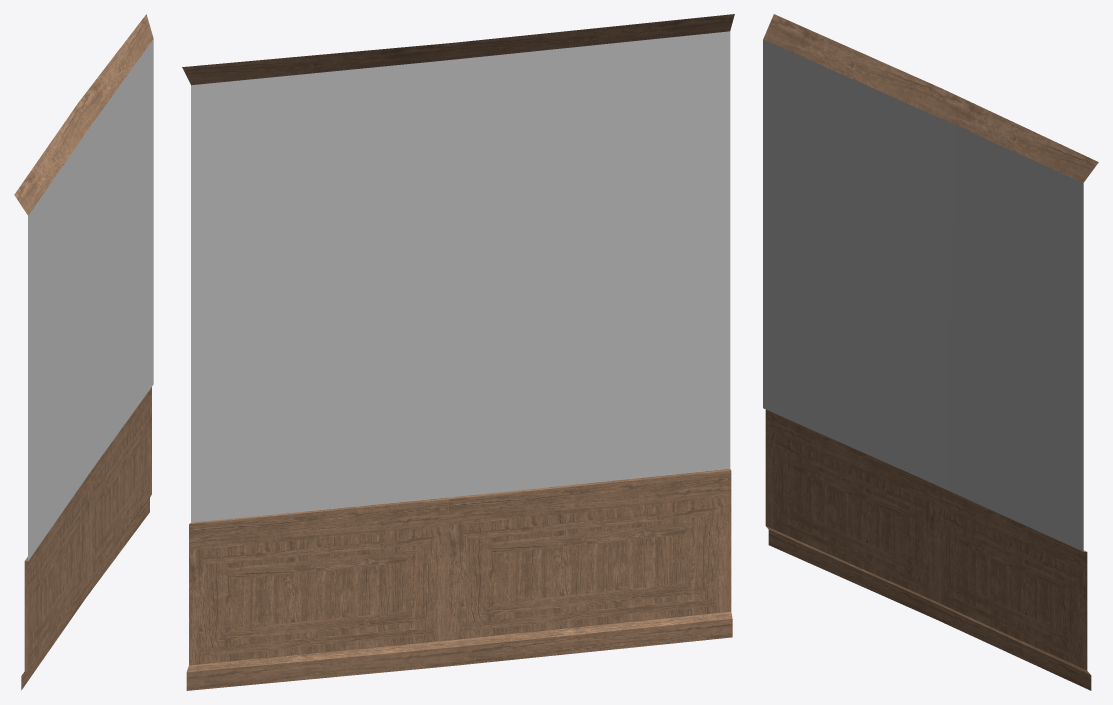
File: WallIntDiagA.fbx
The picture shows the model from 3 angles, left to right: view 1: azimuth 30°, elevation 25°; view 2: azimuth 150°, elevation 25°; view 3: azimuth 270°, elevation 25°; orthographic projection. The views are drawn at different scales.
Parts seen in each view (by area): view 1: WallIntDiagA; view 2: WallIntDiagA; view 3: WallIntDiagA.
Boxes of the visible parts, box(x1,y1,x2,y2) form: WallIntDiagA: box(14, 14, 153, 690); WallIntDiagA: box(182, 14, 734, 690); WallIntDiagA: box(763, 14, 1098, 690).
Bounding box in the file's own units: 228 × 380 × 219.
